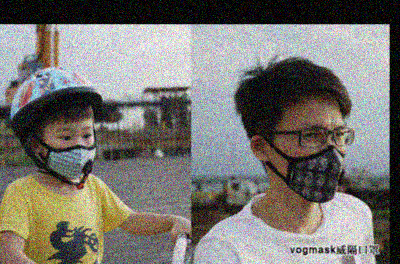with_mask: (268, 119, 349, 205), (42, 124, 97, 182)
